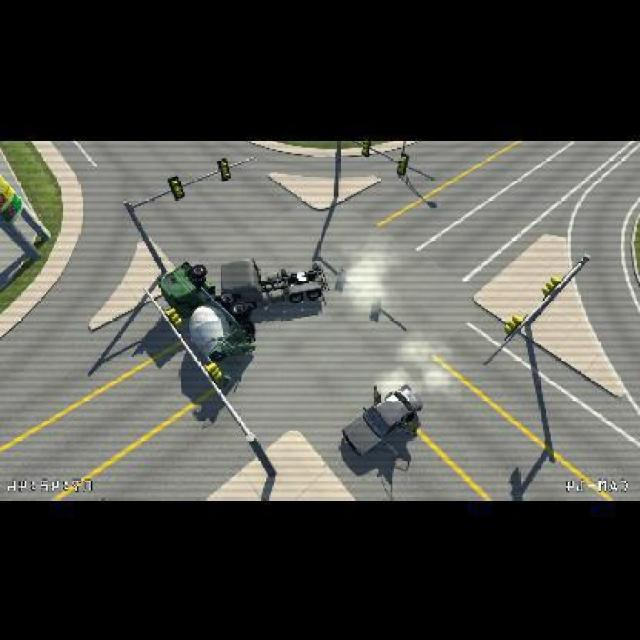accident: (160, 256, 332, 384)
